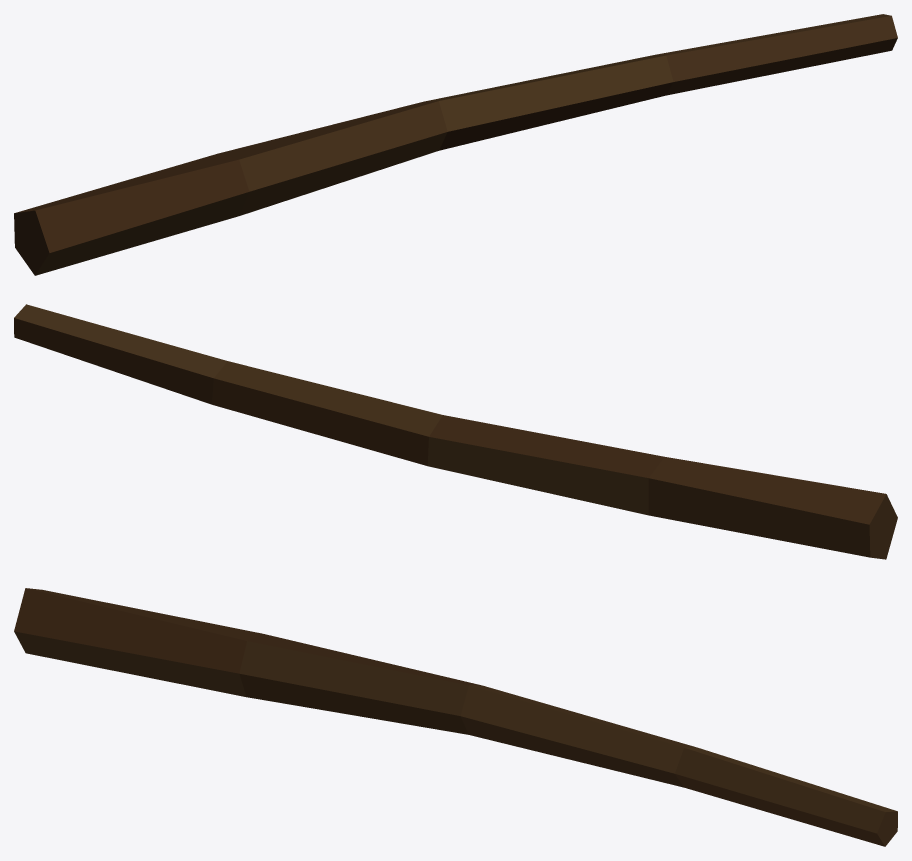
The model's file is stick_ground_dritto.glb.
The picture shows the model from 3 angles, top to bottom: view 1: azimuth 30°, elevation 25°; view 2: azimuth 150°, elevation 25°; view 3: azimuth 330°, elevation 25°; orthographic projection.
Visible parts, largest first — view 1: stick_ground_dritto; view 2: stick_ground_dritto; view 3: stick_ground_dritto.
Boxes of the visible parts, x1=… form: stick_ground_dritto: x1=14, y1=14, x2=897, y2=275; stick_ground_dritto: x1=14, y1=304, x2=897, y2=559; stick_ground_dritto: x1=14, y1=588, x2=897, y2=846.
Size of the model in its own units: 1 by 0.0729 by 0.0994.
